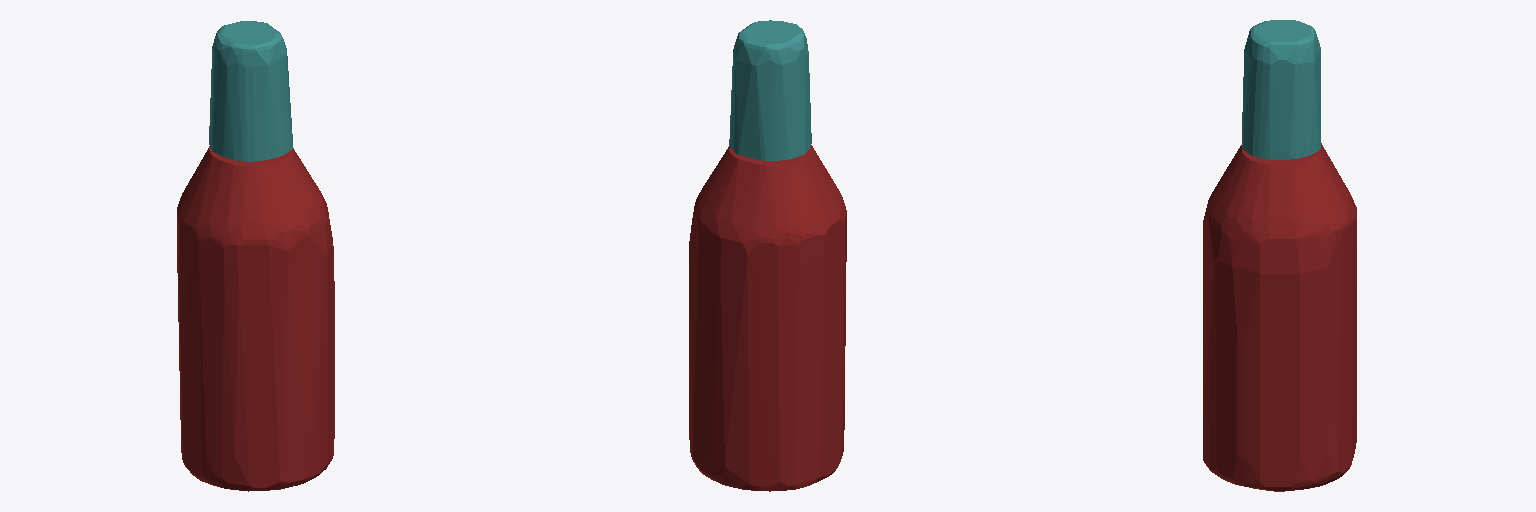
URDF robot description (root):
<robot name="root">
  <link name="bottle_body">
    <inertial>
      <origin xyz="0 0 0" rpy="0 0 0"/>
    </inertial>
    <mass value="1.00E-02"/>
    <visual>
      <origin xyz="0 0 0" rpy="0 0 0"/>
      <geometry>
        <mesh filename="core-bottle-2927d6c8438f6e24fe6460d8d9bd16c6-coacd_convex_piece_1.obj" scale="1.0000E-01 1.0000E-01 1.0000E-01"/>
      </geometry>
      <material name="">
        <color rgba="6.00E-01 2.00E-01 2.00E-01 1"/>
      </material>
    </visual>
    <collision>
      <origin xyz="0 0 0" rpy="0 0 0"/>
      <geometry>
        <mesh filename="core-bottle-2927d6c8438f6e24fe6460d8d9bd16c6-coacd_convex_piece_1.obj" scale="1.0000E-01 1.0000E-01 1.0000E-01"/>
      </geometry>
    </collision>
  </link>
  <link name="bottle_cap">
    <origin xyz="0 0 0.002" rpy="0 0 0"/>
    <mass value="1.00E-02"/>
    <visual>
      <origin xyz="0 0 0.002" rpy="0 0 0"/>
      <geometry>
        <mesh filename="core-bottle-2927d6c8438f6e24fe6460d8d9bd16c6-coacd_convex_piece_0.obj" scale="1.0000E-01 1.0000E-01 1.0000E-01"/>
      </geometry>
      <material name="">
        <color rgba="3.00E-01 6.00E-01 6.00E-01 1"/>
      </material>
    </visual>
    <collision>
      <origin xyz="0 0 0.002" rpy="0 0 0"/>
      <geometry>
        <mesh filename="core-bottle-2927d6c8438f6e24fe6460d8d9bd16c6-coacd_convex_piece_0.obj" scale="1.0000E-01 1.0000E-01 1.0000E-01"/>
      </geometry>
    </collision>
  </link>
  <joint name="bottle_cap_joint" type="revolute">
    <origin xyz="0 0 0" rpy="0 0 0"/>
    <parent link="bottle_body"/>
    <child link="bottle_cap"/>
    <axis xyz="0 0 1"/>
    <limit lower="0.00" upper="6.28"/>
    <dynamics damping="0.05"/>
  </joint>
</robot>

--- What the picture shows (computed from the rendered views, not written in the file) ---
The picture shows the robot from 3 angles, left to right: view 1: azimuth 30°, elevation 25°; view 2: azimuth 150°, elevation 25°; view 3: azimuth 270°, elevation 25°; orthographic projection.
Robot: root — 2 links, 1 joints (1 revolute); root link bottle_body; default pose: every joint at zero.
Visible links, largest first — view 1: bottle_body, bottle_cap; view 2: bottle_body, bottle_cap; view 3: bottle_body, bottle_cap.
Link boxes in pixels (x1,y1,x2,y2): bottle_body: (177, 146, 334, 491); bottle_cap: (209, 21, 292, 161); bottle_body: (689, 145, 846, 491); bottle_cap: (729, 20, 811, 160); bottle_body: (1203, 143, 1356, 491); bottle_cap: (1242, 20, 1320, 159).
Bounding box of the posed robot: 0.0618 × 0.0618 × 0.1916 m (x, y, z).
Meshes: 2 distinct files referenced, 2 mesh visuals loaded (2 OBJ).